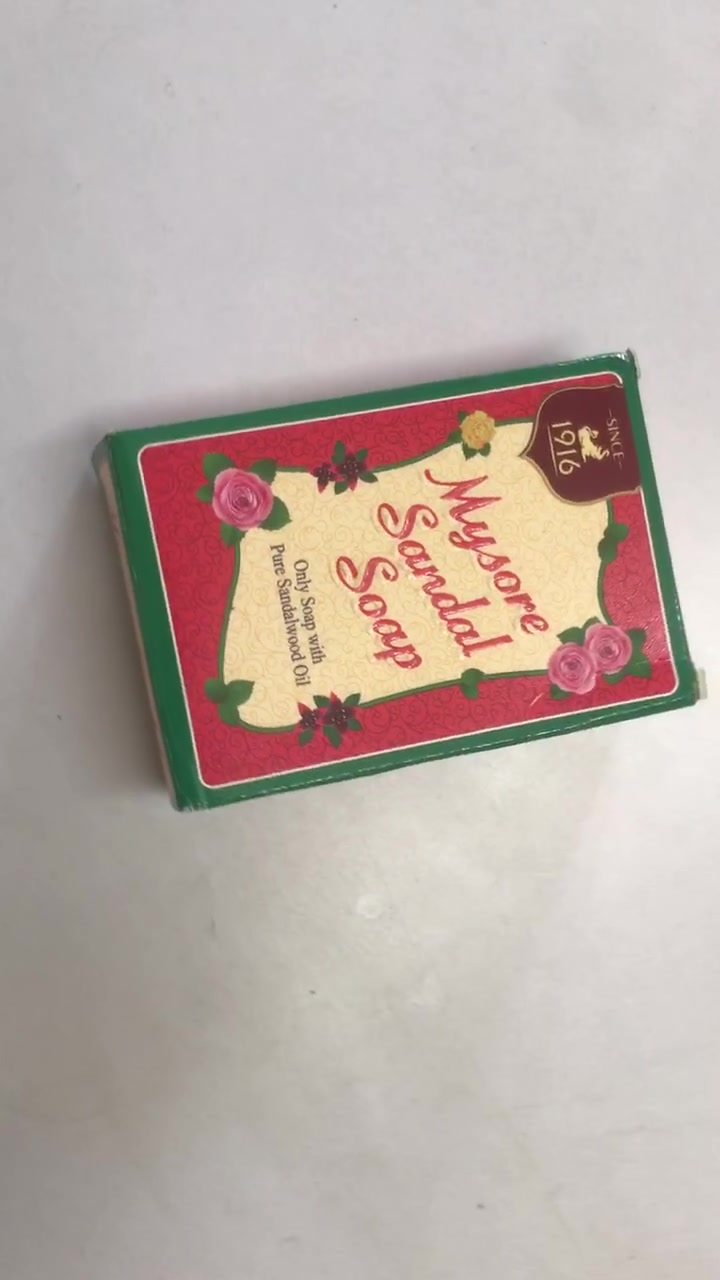mysore sandal soap: (99, 348, 691, 812)
